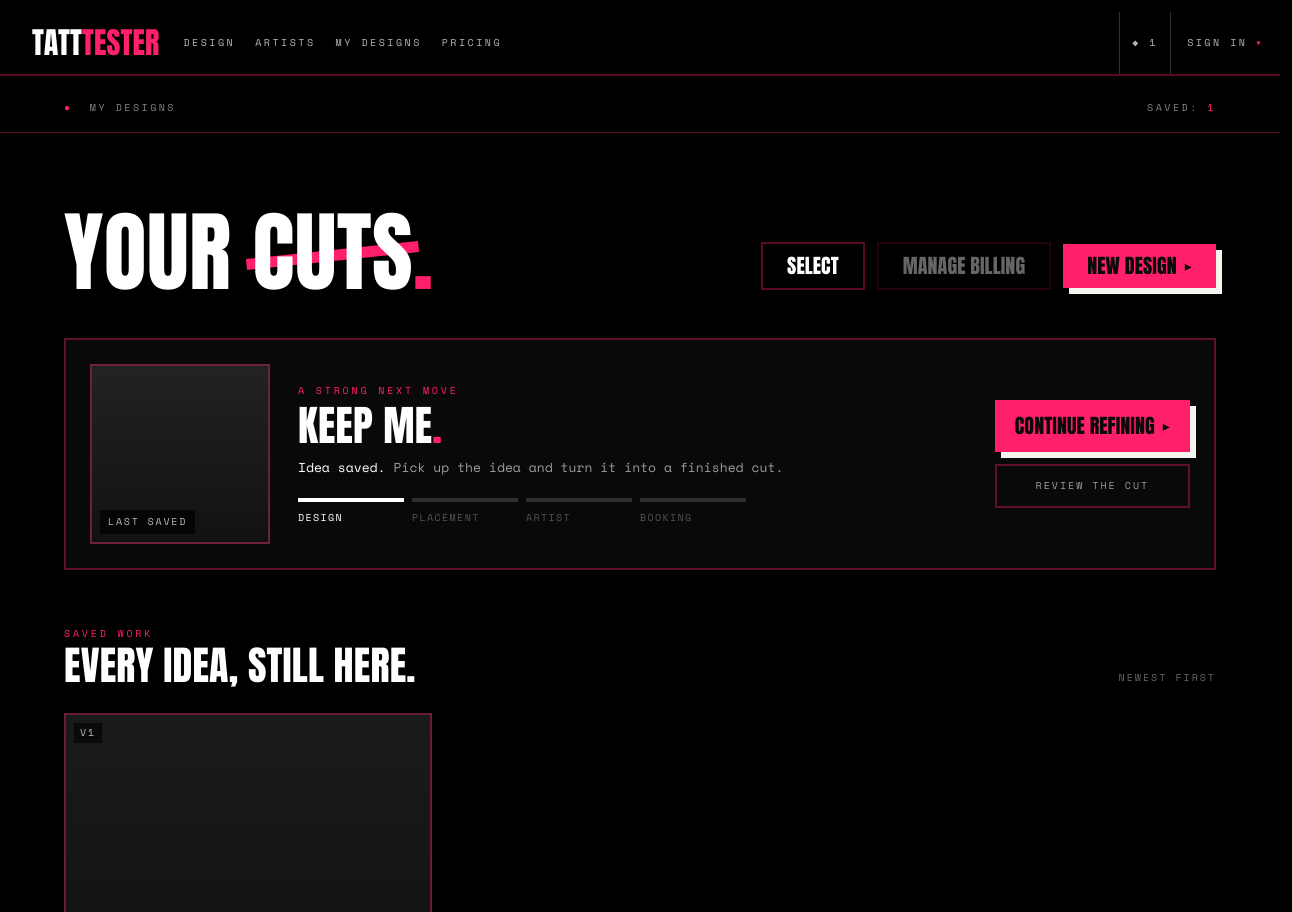
Test: DesignsPage — easy delete › canceling select mode discards selection without deleting anything
The width and height of the screenshot is (1292, 912).
Click the button "Select" at [813, 266], box [761,242,865,290]
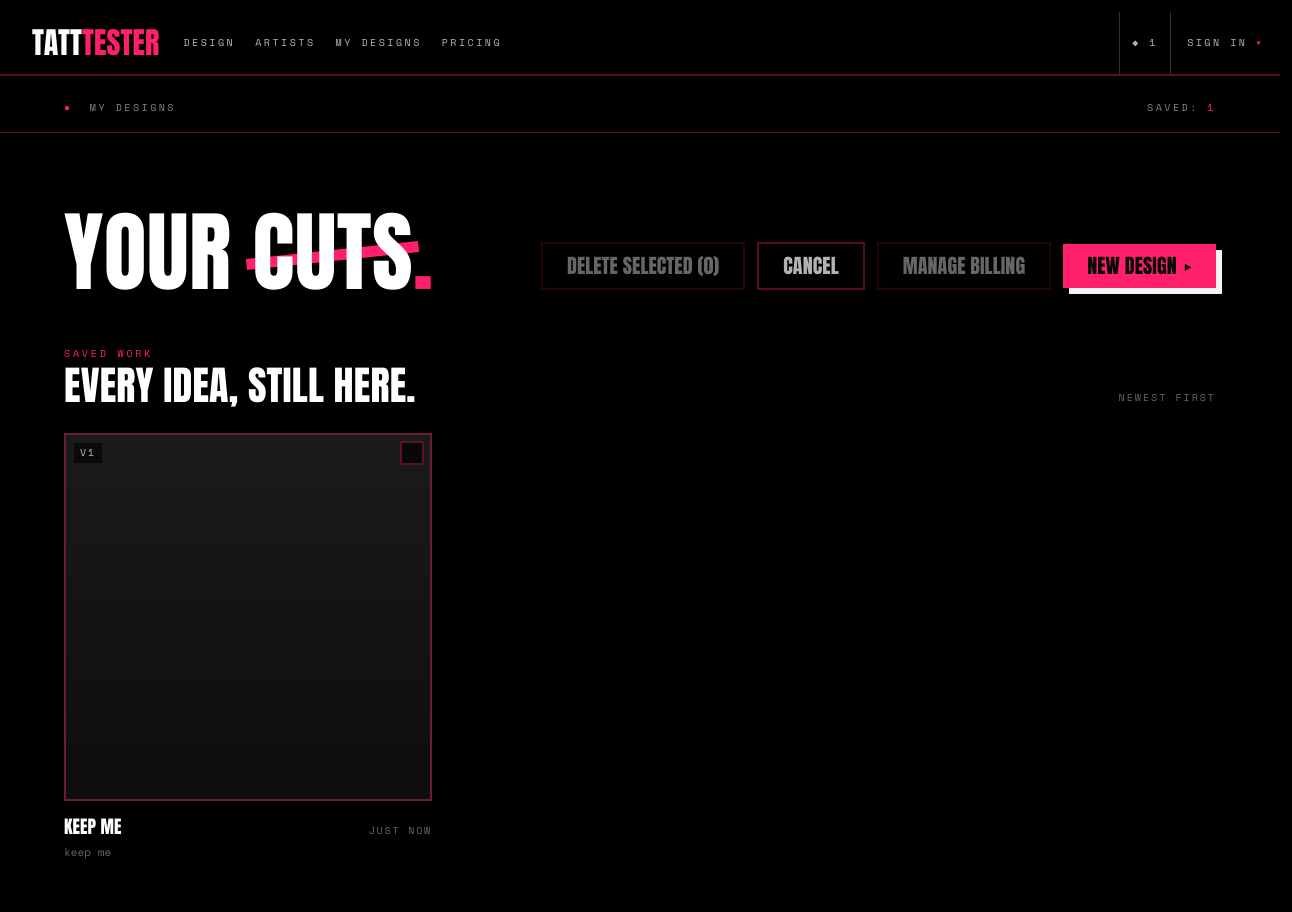
Click the button named "Select keep me" at [248, 617], box [64,433,432,801]
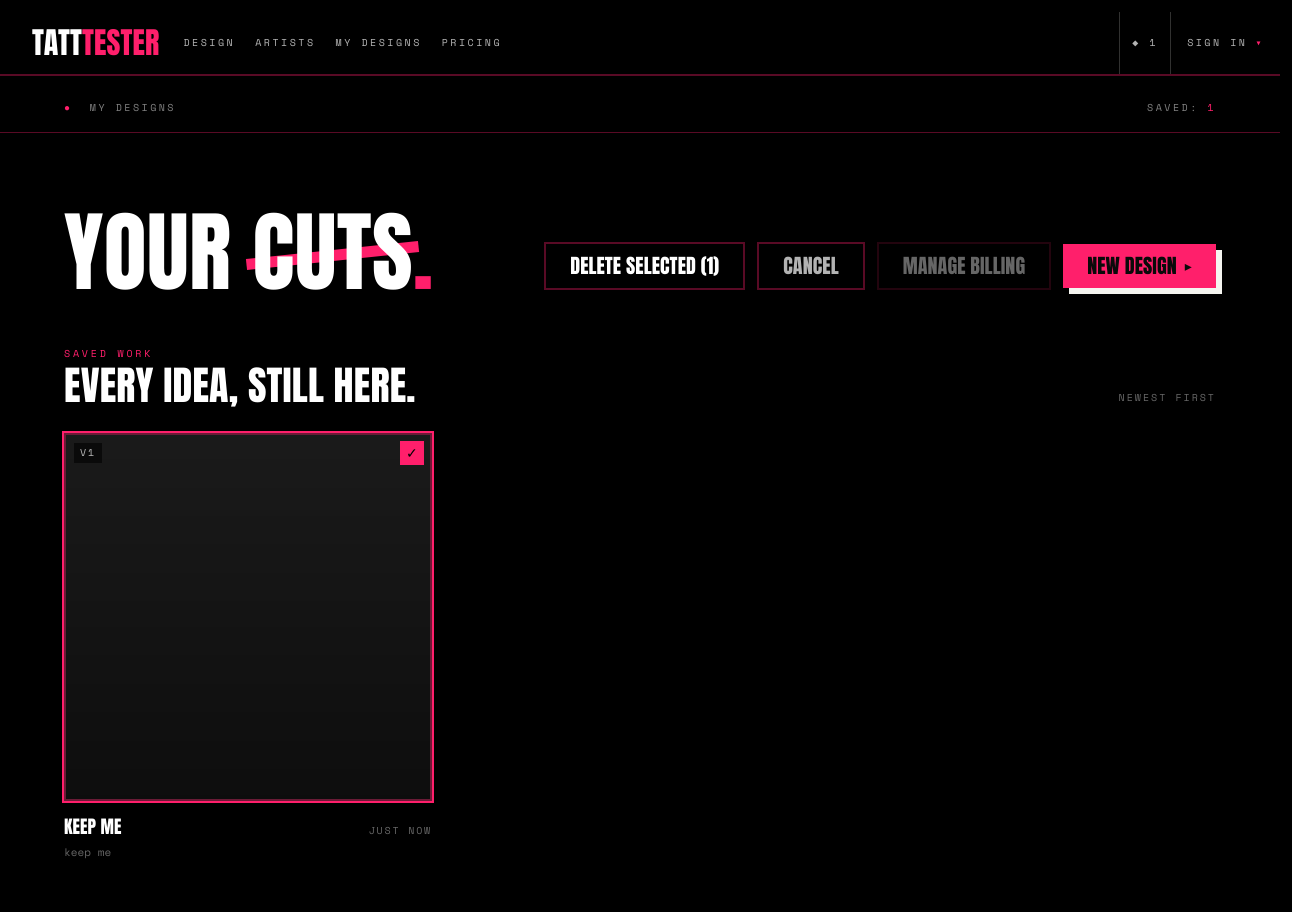
Click the button "Cancel" at [811, 266], box [757,242,865,290]
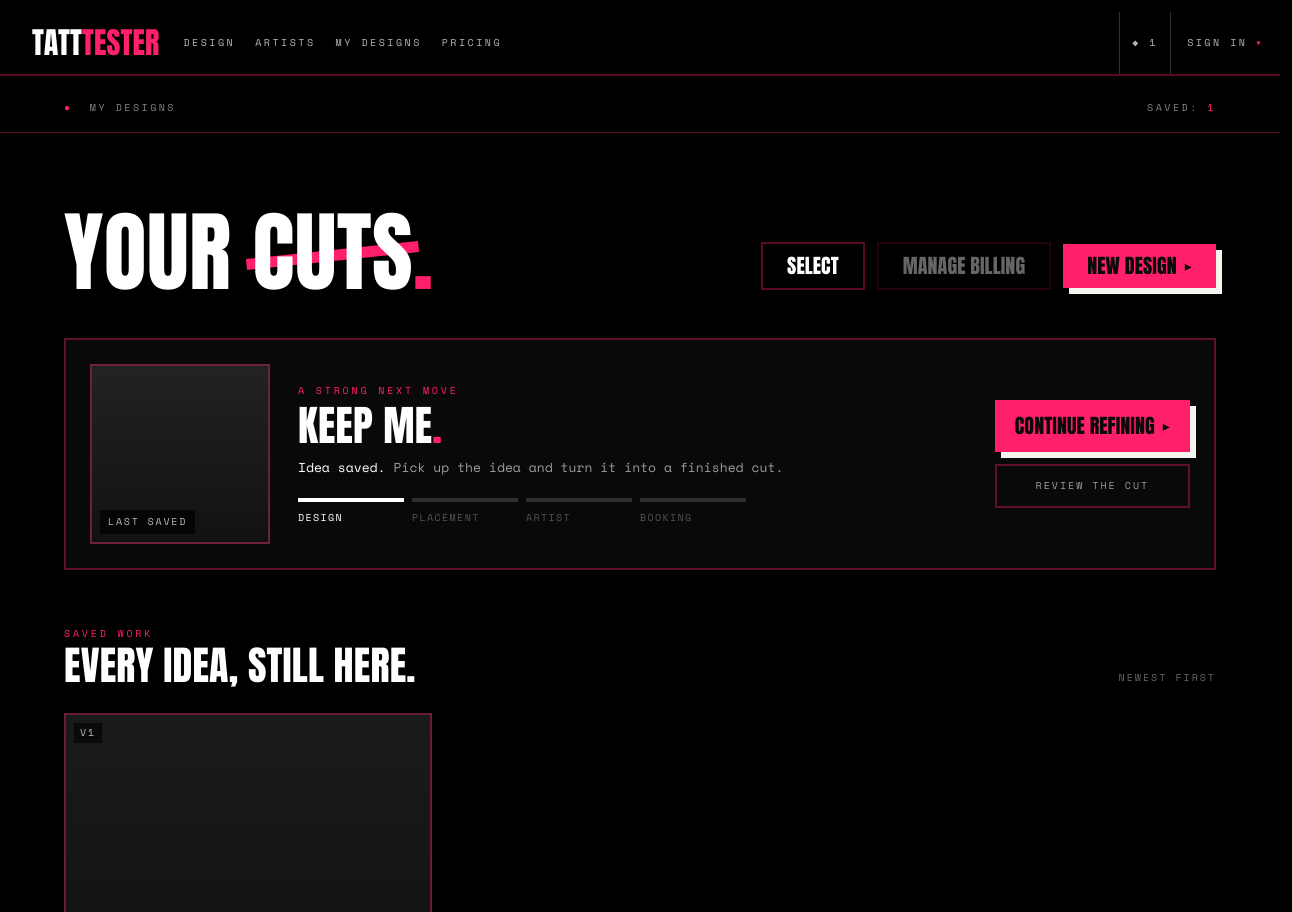
Expected: the heading "keep me." is shown, [298,394,442,457]
